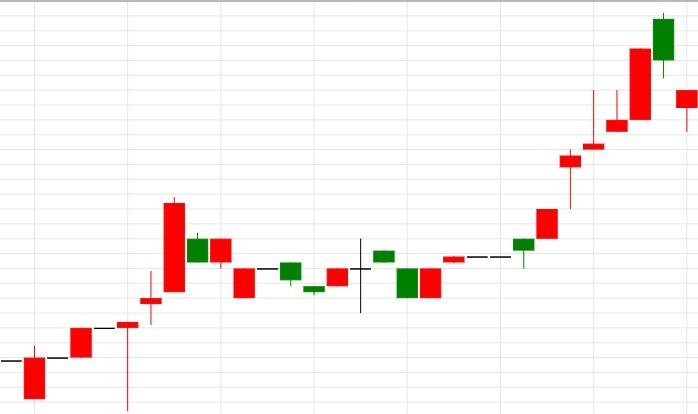morning_star_rise: (162, 197, 350, 298)
